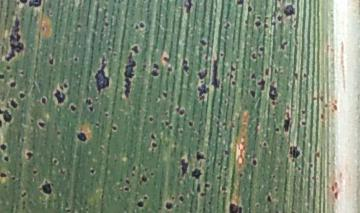tarspot: (121, 39, 141, 101), (4, 15, 25, 63), (91, 54, 115, 96), (196, 66, 210, 107), (210, 55, 224, 93), (286, 142, 306, 166), (175, 154, 192, 181), (280, 110, 296, 137), (49, 88, 69, 106), (225, 198, 249, 213), (178, 1, 197, 17), (39, 179, 54, 198), (267, 83, 279, 106), (3, 109, 18, 127), (193, 148, 209, 164), (181, 55, 193, 75), (280, 2, 297, 16), (171, 103, 189, 116), (75, 130, 90, 144), (196, 37, 212, 50), (254, 42, 270, 54), (278, 39, 292, 52), (191, 166, 203, 181), (28, 1, 44, 12), (66, 101, 78, 114), (133, 198, 146, 210), (251, 18, 264, 30), (162, 200, 176, 211), (264, 191, 275, 205), (24, 149, 36, 161), (259, 77, 268, 93), (8, 97, 19, 110), (138, 172, 151, 183), (247, 88, 260, 99), (193, 180, 204, 193), (250, 70, 260, 84), (46, 55, 57, 67), (63, 81, 74, 93), (83, 95, 95, 106), (149, 130, 161, 141), (160, 55, 172, 66), (249, 52, 261, 63), (222, 146, 233, 158), (100, 20, 113, 30), (221, 20, 234, 30), (261, 66, 274, 76), (298, 117, 311, 127), (290, 70, 300, 83), (204, 178, 213, 192), (17, 90, 28, 101), (137, 18, 148, 29), (8, 79, 20, 89), (145, 114, 157, 124), (259, 139, 271, 149), (28, 167, 41, 176), (149, 70, 162, 79), (39, 95, 49, 106), (18, 188, 29, 198), (218, 184, 228, 195), (301, 70, 311, 81), (1, 142, 10, 154), (100, 109, 112, 118), (176, 193, 188, 202), (36, 121, 49, 129), (2, 154, 12, 164), (250, 157, 260, 167), (160, 89, 170, 99), (272, 126, 283, 135), (74, 21, 85, 30), (49, 158, 61, 166), (151, 62, 163, 70), (236, 171, 248, 179), (213, 173, 225, 181), (17, 68, 27, 77), (87, 166, 96, 176), (276, 13, 285, 23), (300, 106, 309, 116), (128, 163, 139, 171), (229, 79, 240, 87), (269, 172, 280, 180), (1, 116, 6, 133), (14, 1, 28, 7), (52, 129, 64, 136), (121, 186, 133, 193), (3, 62, 12, 71), (110, 122, 119, 131), (93, 120, 102, 129), (150, 141, 159, 150), (1, 170, 9, 180), (71, 55, 81, 63), (246, 4, 254, 14), (233, 1, 249, 6), (229, 64, 239, 72), (314, 150, 322, 160), (87, 105, 98, 112), (121, 178, 132, 185), (318, 111, 326, 120), (56, 84, 66, 91), (227, 73, 238, 79), (9, 173, 17, 181), (162, 118, 170, 126), (18, 135, 27, 142), (176, 128, 185, 135), (187, 120, 195, 127), (221, 120, 229, 127), (29, 117, 36, 124), (1, 72, 5, 81)
